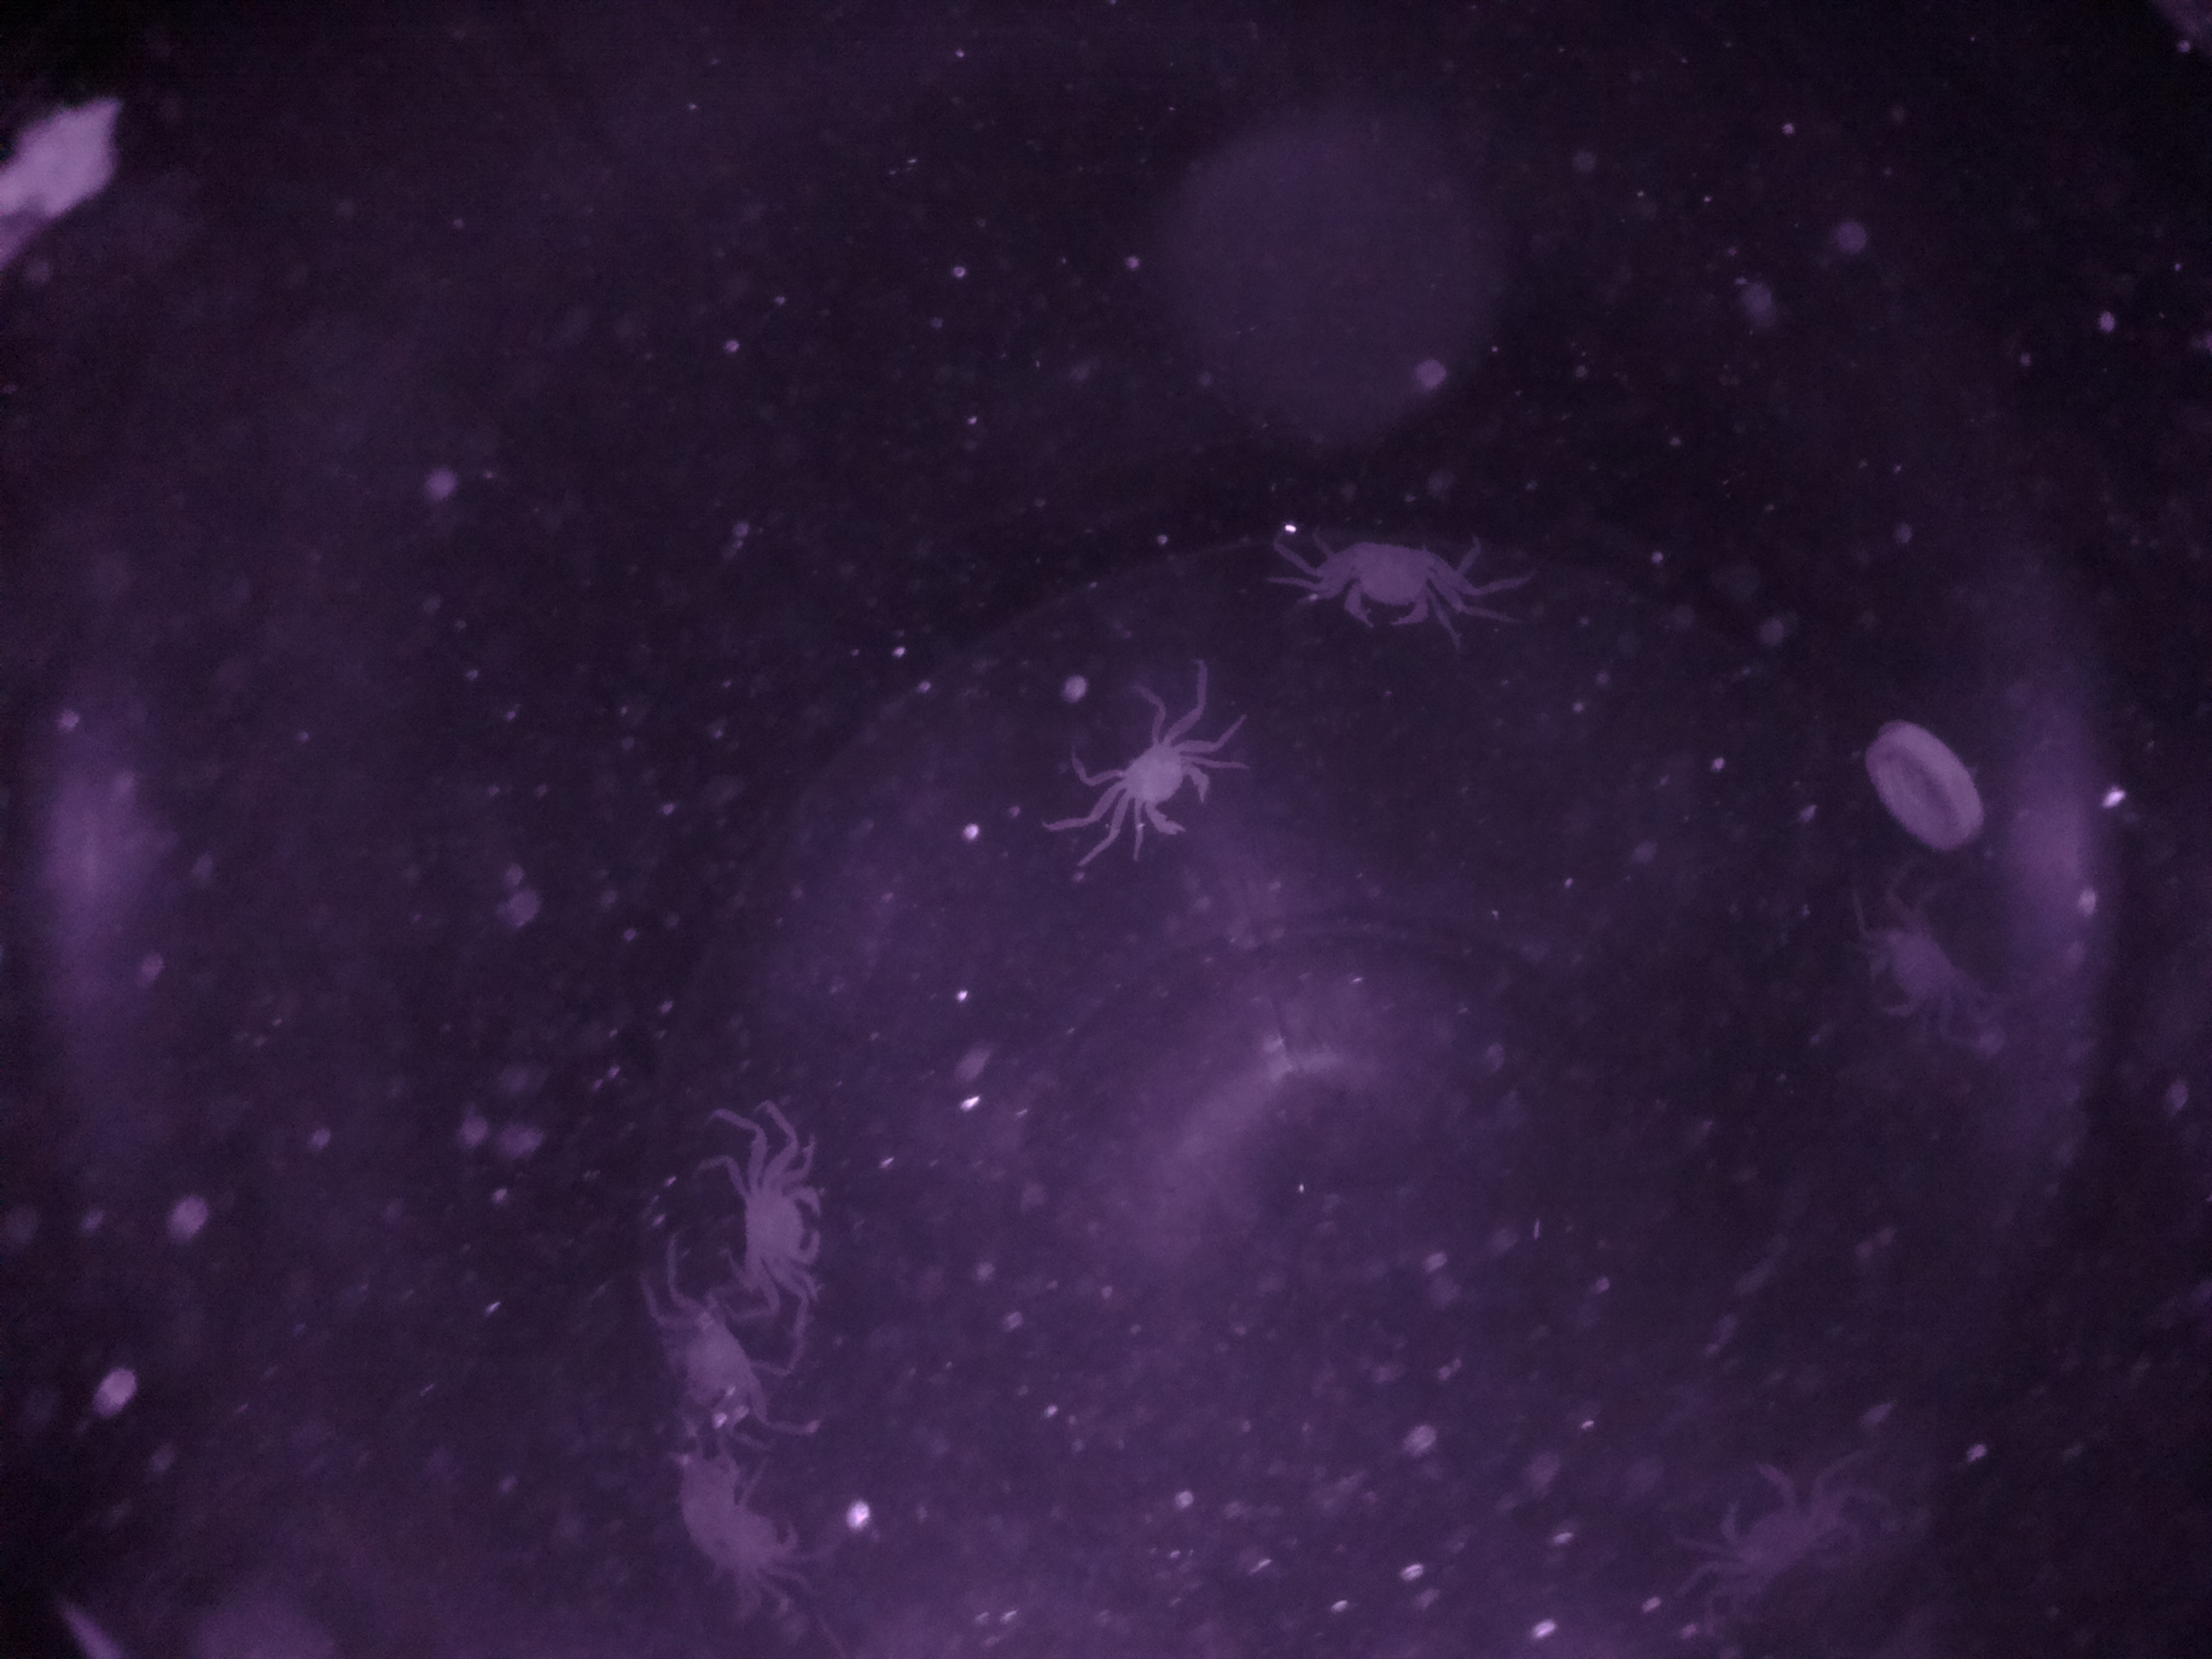Crab: (1843, 889, 1994, 1044), (1703, 1450, 1843, 1595), (1090, 714, 1219, 850), (726, 1154, 846, 1295), (1324, 528, 1460, 650)
